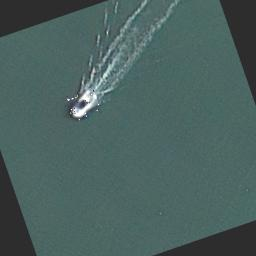boat: (63, 86, 101, 122)
